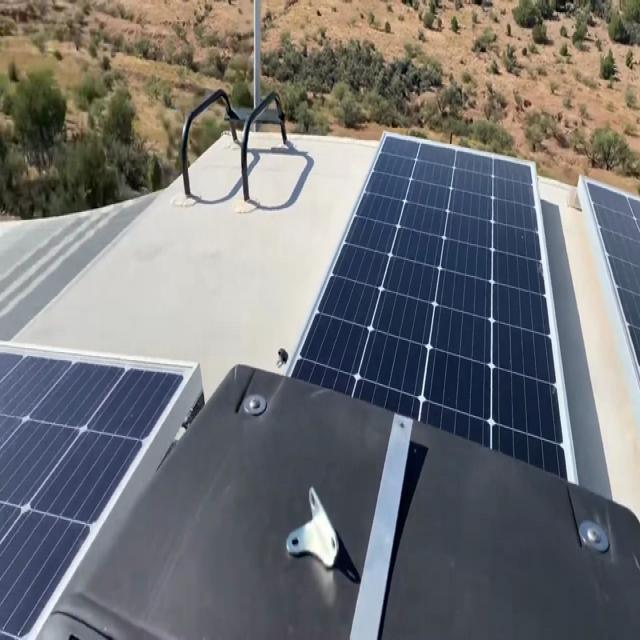Normal Solar Panel: (288, 136, 575, 473), (0, 342, 198, 640), (588, 182, 640, 382)
